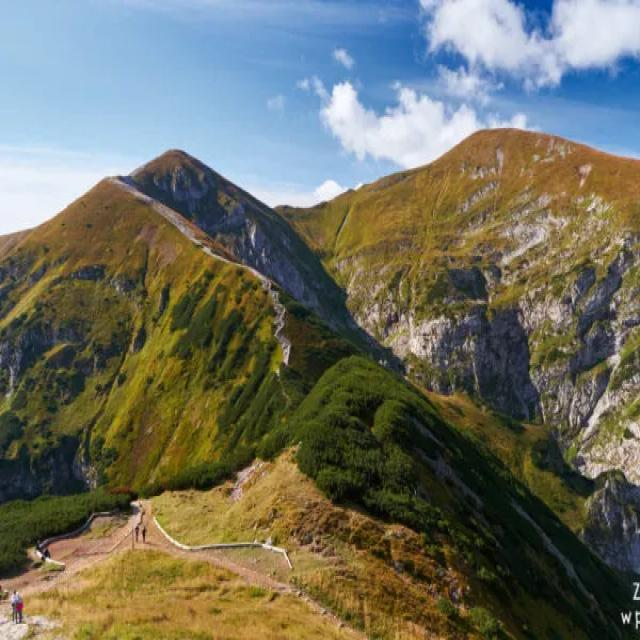Kopa Kondracka: (71, 55, 281, 244)
Malolaczniak: (390, 41, 586, 215)
